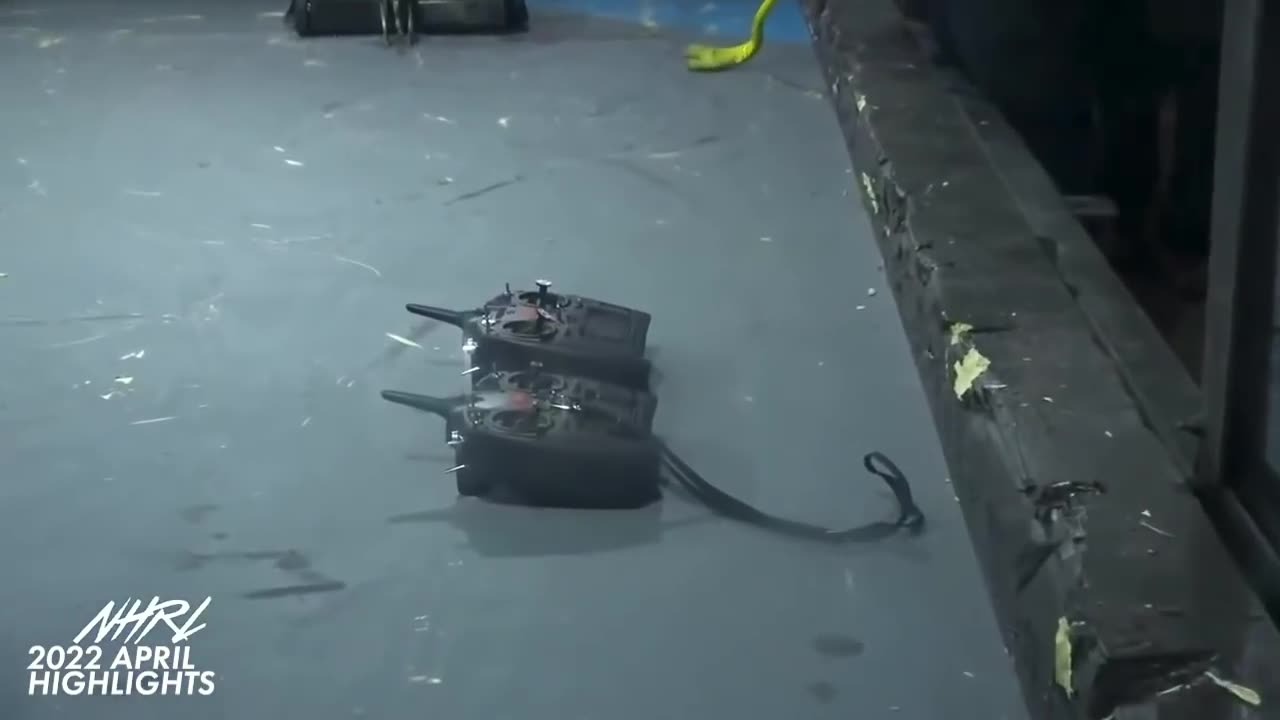combatbot: (276, 0, 533, 49)
